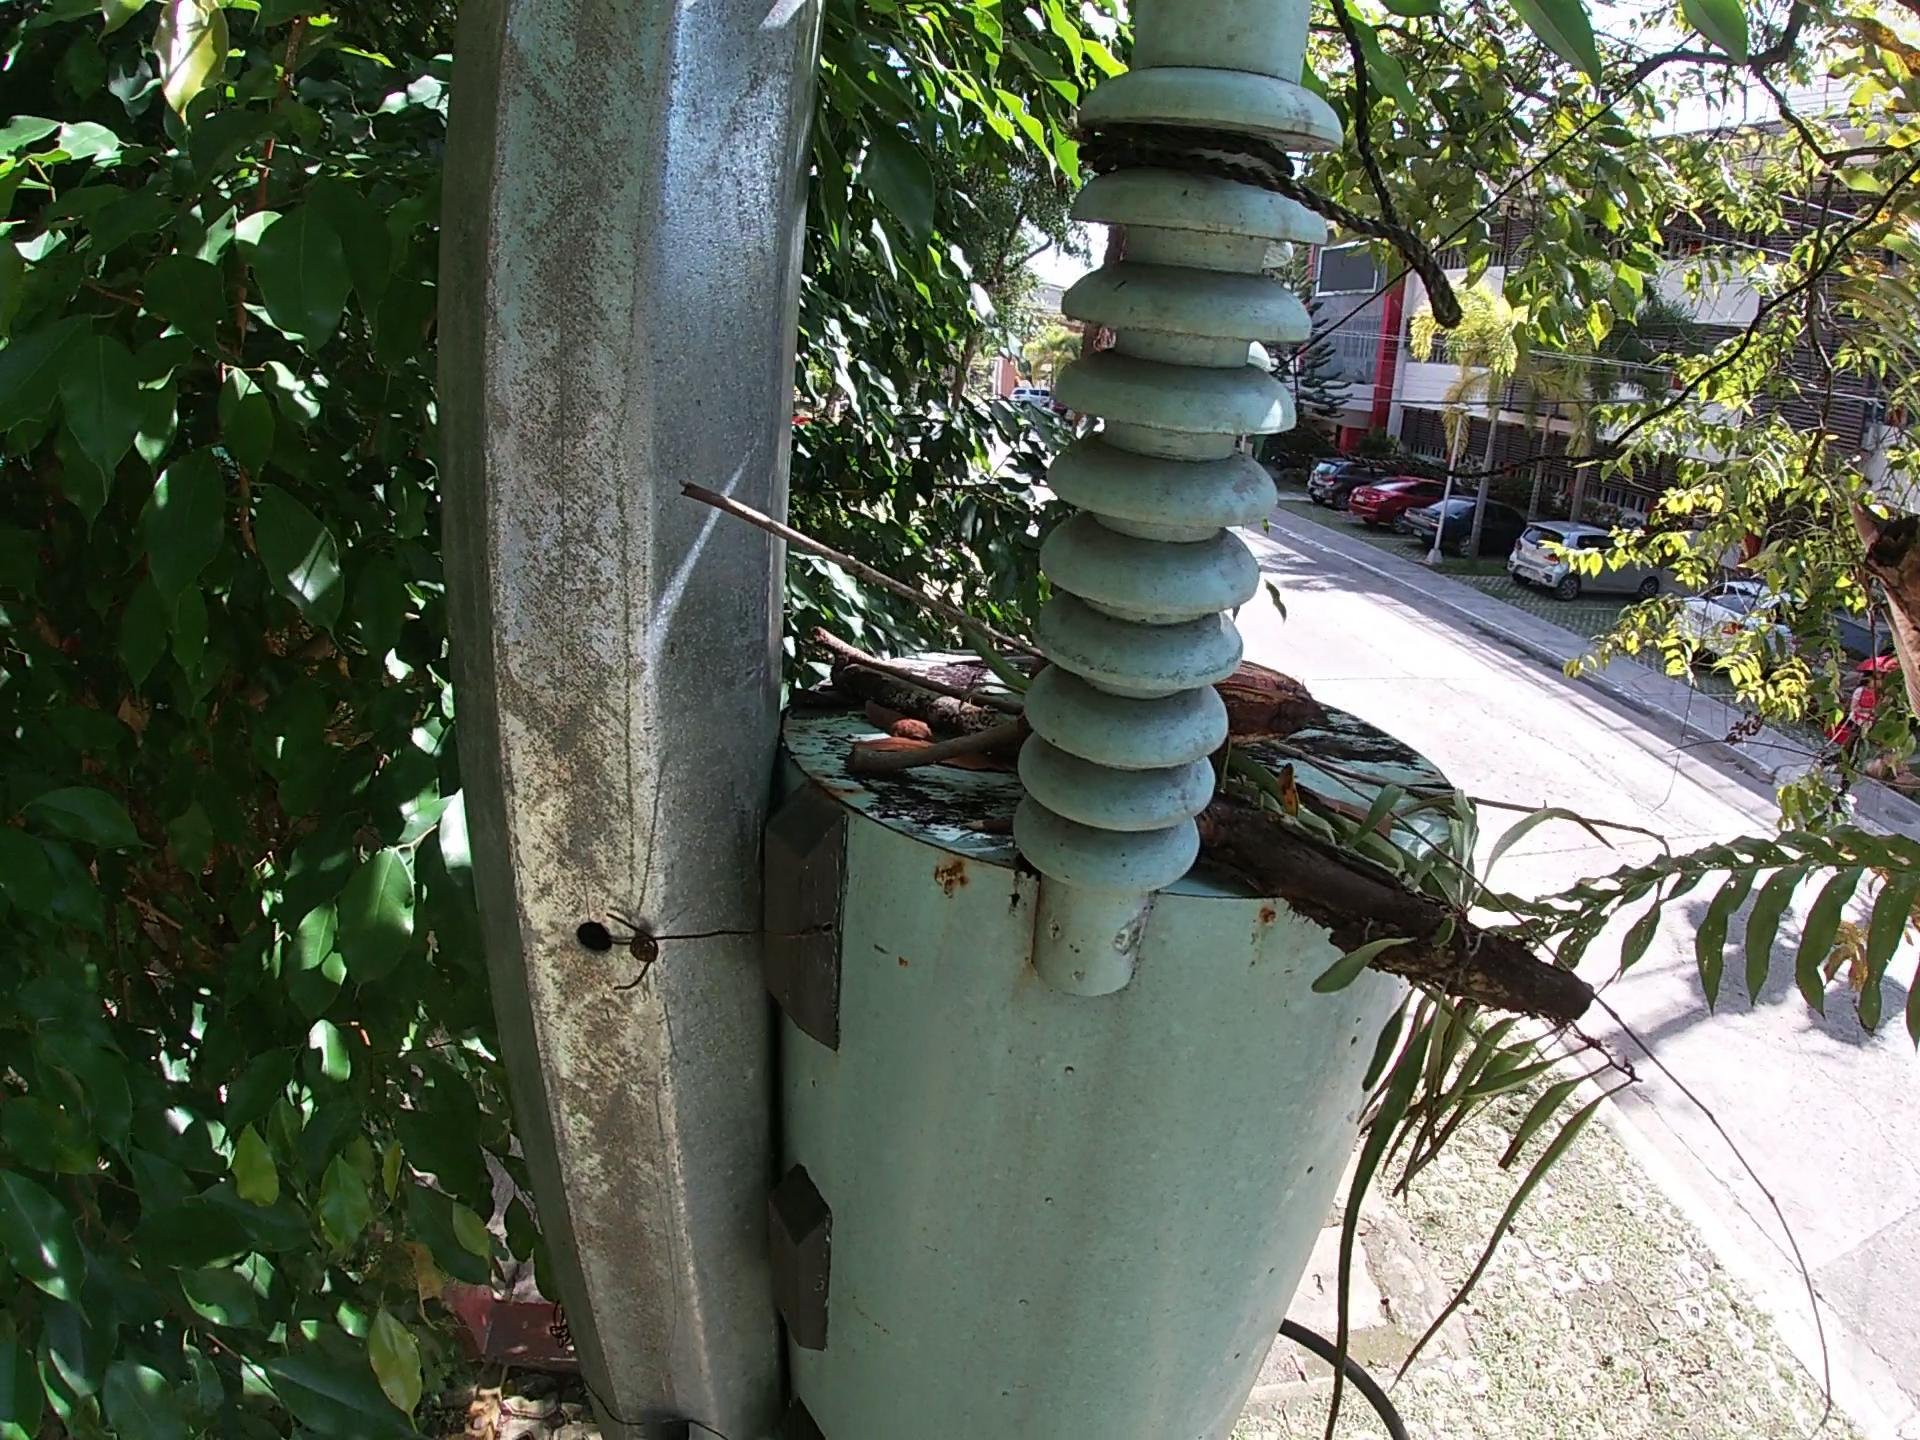branch with leaves: (797, 582, 1663, 1113)
leaf: (1302, 725, 1420, 944)
mahogany fruit: (801, 594, 972, 697)
tree branch: (680, 475, 1920, 1153), (830, 697, 1061, 923)
